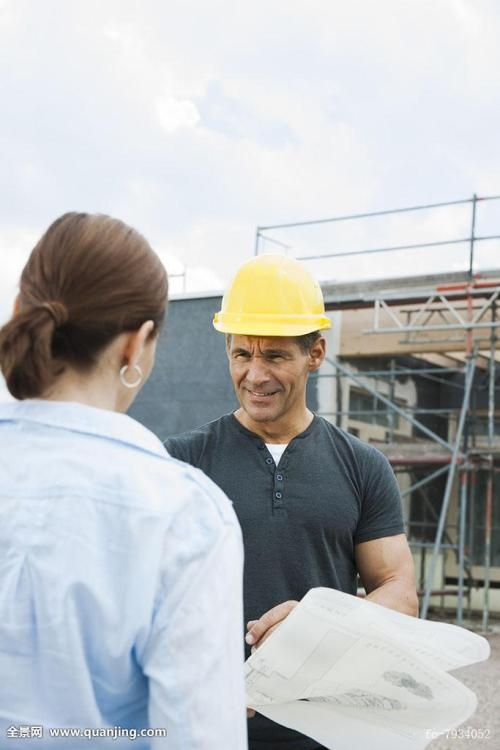none: (12, 201, 173, 433)
yellow: (210, 249, 334, 427)
